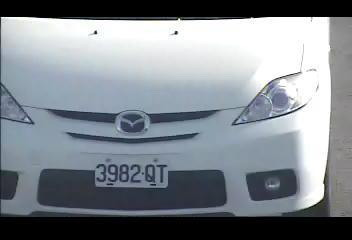plate: (94, 156, 169, 191)
